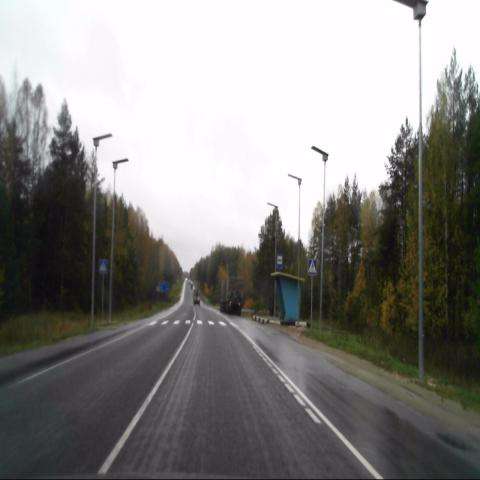5_19_1: (307, 258, 317, 277), (98, 257, 107, 275)
